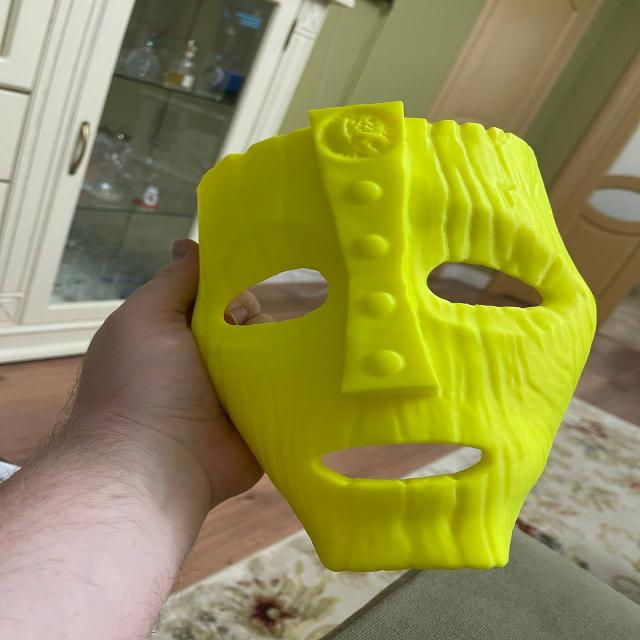Without deffect: (170, 88, 598, 584)
